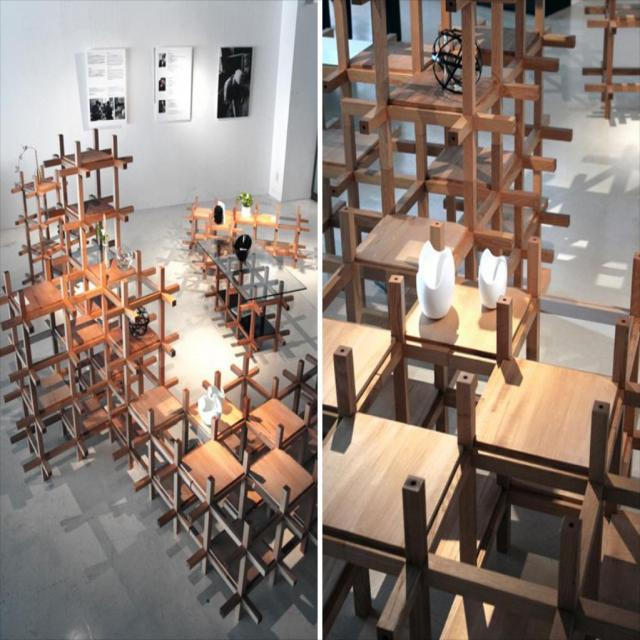table: (196, 235, 306, 359)
